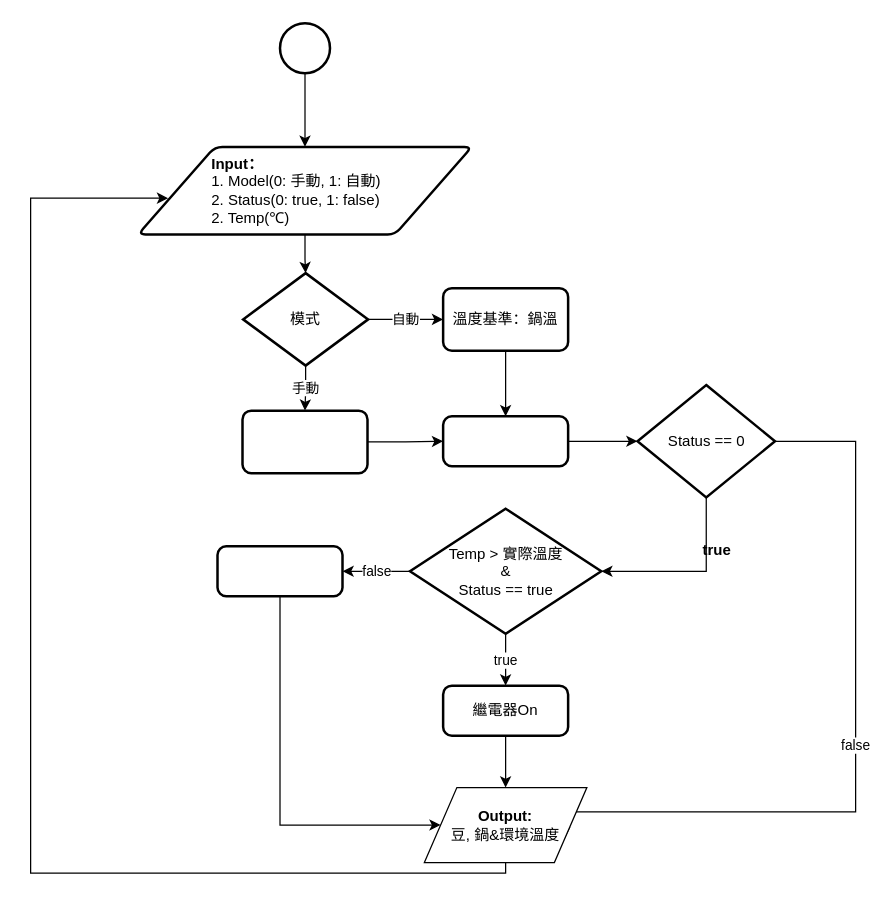
The diagram is 891 pixels wide and 905 high, and some of its shapes have lost their labels. Each missing label, with the centre of its shape:
"取得溫度" belongs at [505,440].
"溫度基準：豆溫" belongs at [304,441].
"繼電器Off" belongs at [279,570].
